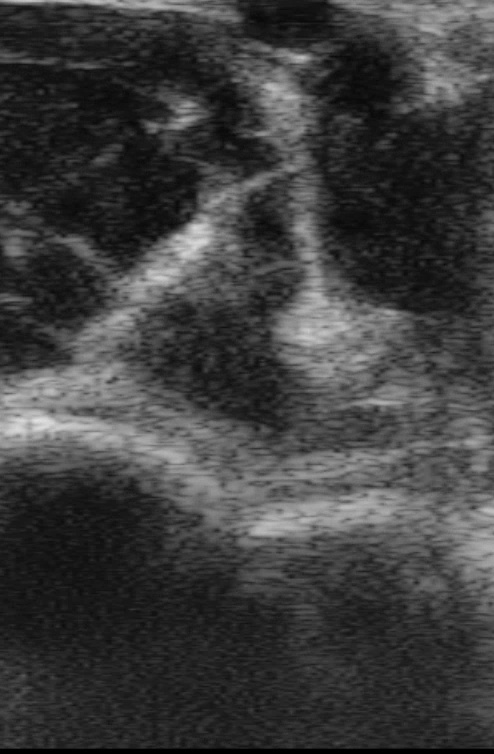veins_detect: (229, 2, 346, 56)
veins_seg: (231, 1, 337, 46)
